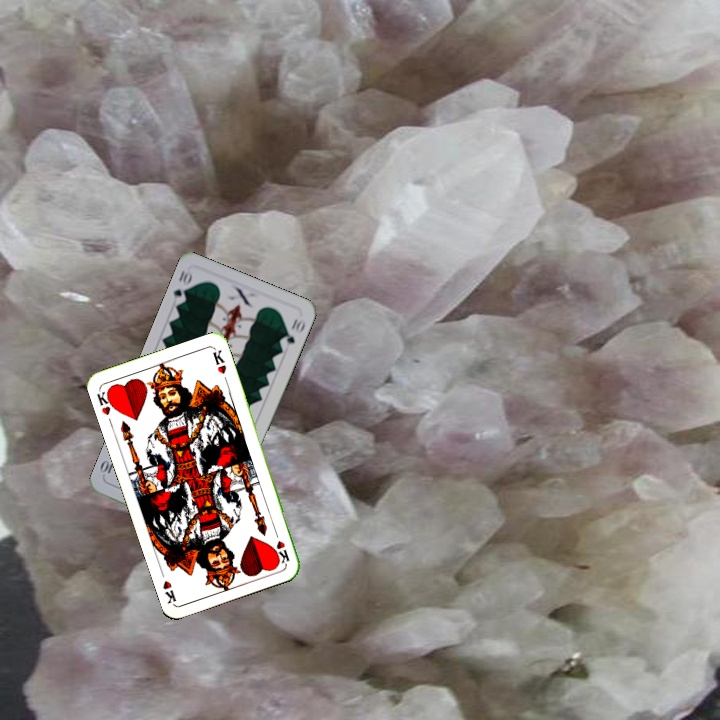G10: (169, 266, 195, 307)
HK: (270, 526, 292, 566), (93, 385, 118, 418)
